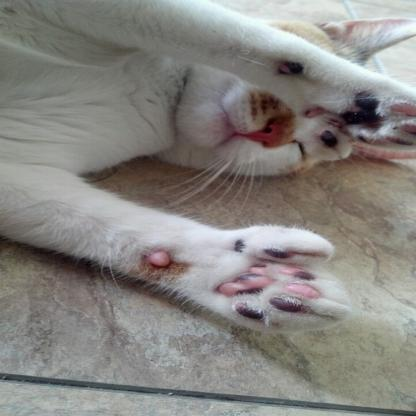Target: (0, 0, 414, 332)
